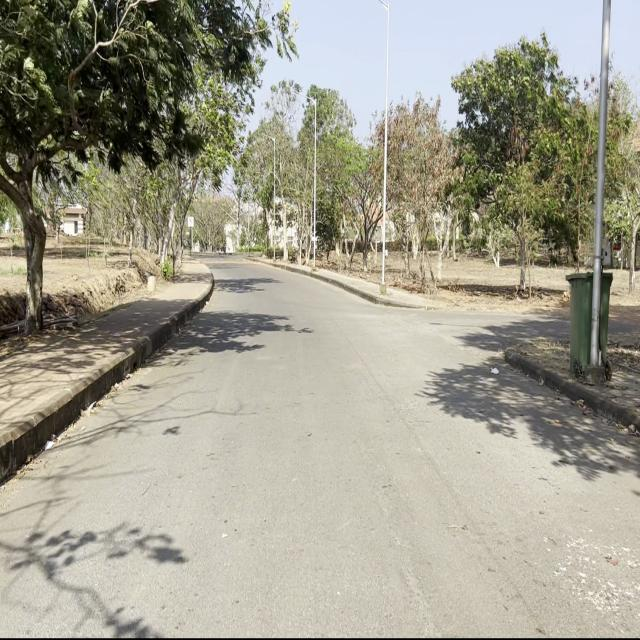Road: (3, 254, 635, 632)
